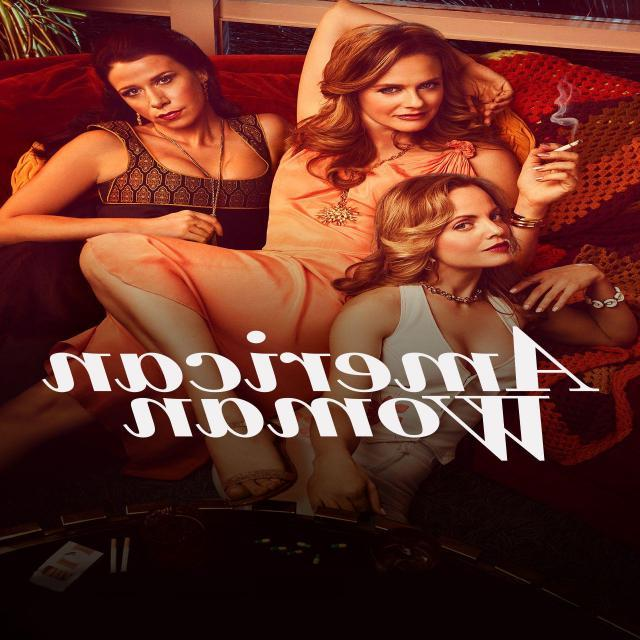cigarette: (536, 124, 594, 171)
